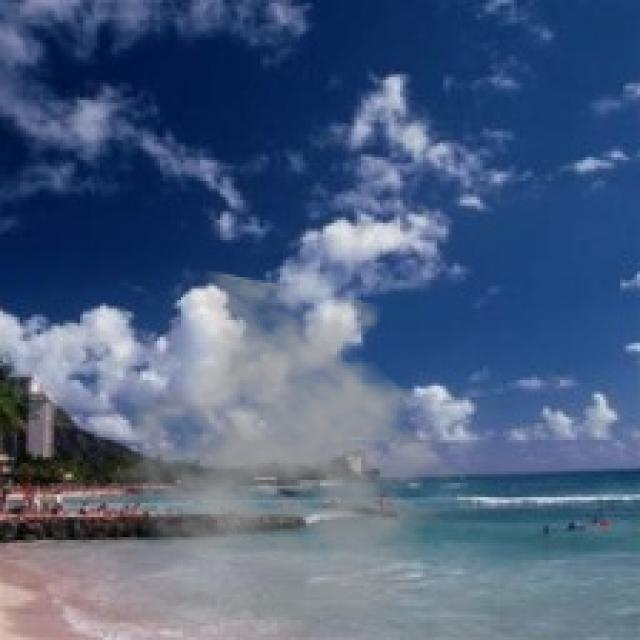smoke: (106, 269, 480, 634)
